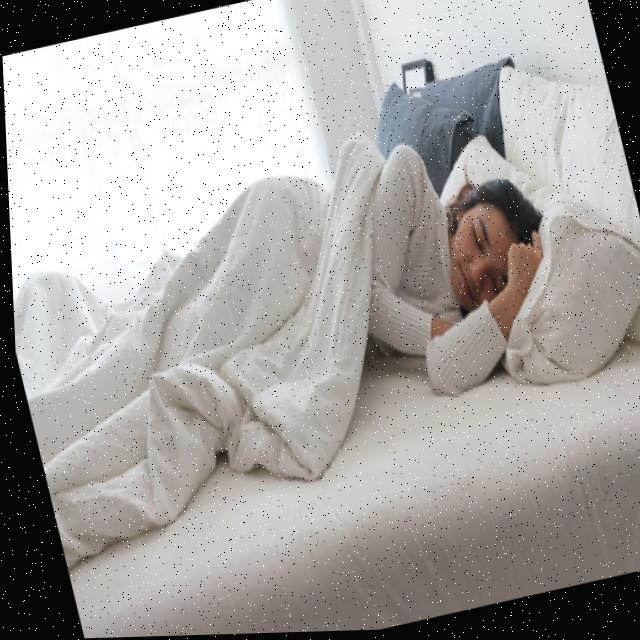sleeping-person: (3, 73, 616, 557)
